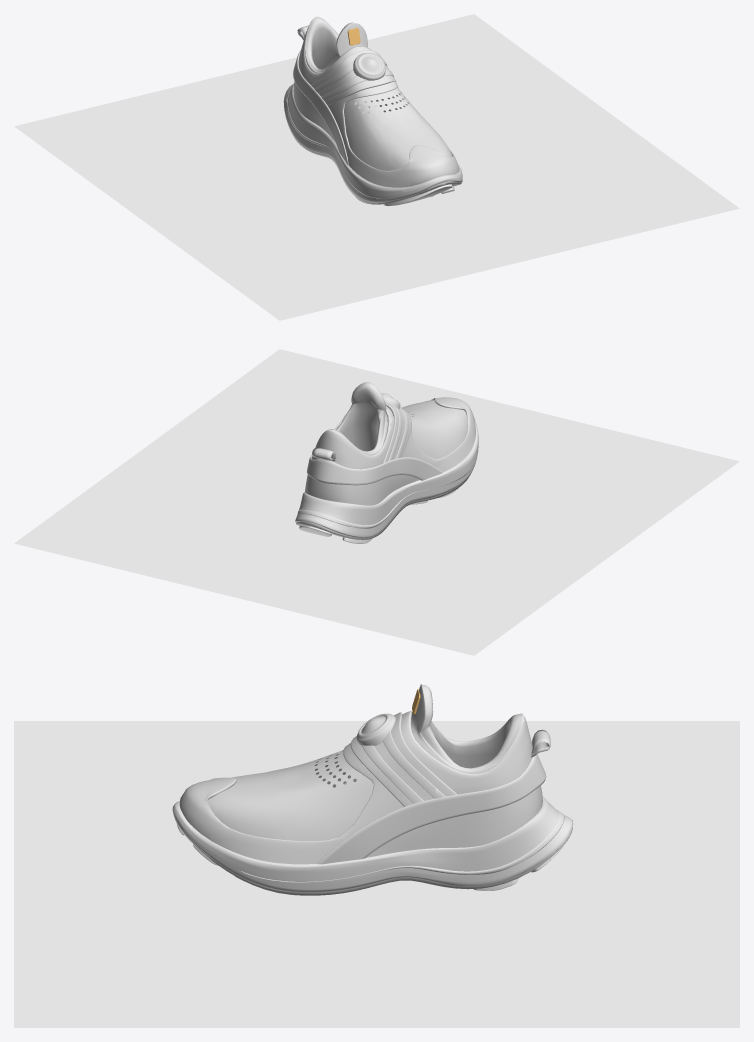
The model's file is racer.glb.
3 views of the same model, one above another, from view 1: azimuth 30°, elevation 25°; view 2: azimuth 150°, elevation 25°; view 3: azimuth 270°, elevation 25° (orthographic). The views are drawn at different scales.
Visible parts, largest first — view 1: racer_norandom00, racer_anima00, racer_cloth00, racer_bottom00, racer_cloth02, racer_cloth01, racer_anima01, racer_cloth03, racer_bottom01; view 2: racer_norandom00, racer_cloth00, racer_anima00, racer_bottom00, racer_cloth01, racer_cloth02, racer_bottom01, racer_anima02; view 3: racer_norandom00, racer_cloth00, racer_anima00, racer_bottom00, racer_cloth01, racer_cloth02, racer_cloth03, racer_bottom01, racer_anima02, racer_anima01.
Part boxes in pixels (x1=…): racer_norandom00: x1=14, y1=14, x2=739, y2=320; racer_anima00: x1=305, y1=17, x2=452, y2=170; racer_cloth00: x1=293, y1=16, x2=459, y2=187; racer_bottom00: x1=283, y1=83, x2=462, y2=203; racer_cloth02: x1=311, y1=50, x2=396, y2=105; racer_cloth01: x1=293, y1=50, x2=348, y2=165; racer_anima01: x1=353, y1=53, x2=385, y2=80; racer_cloth03: x1=314, y1=57, x2=393, y2=100; racer_bottom01: x1=285, y1=117, x2=461, y2=204; racer_norandom00: x1=14, y1=349, x2=739, y2=655; racer_cloth00: x1=305, y1=397, x2=475, y2=505; racer_anima00: x1=327, y1=382, x2=467, y2=459; racer_bottom00: x1=295, y1=417, x2=478, y2=537; racer_cloth01: x1=307, y1=455, x2=443, y2=485; racer_cloth02: x1=342, y1=402, x2=411, y2=463; racer_bottom01: x1=296, y1=474, x2=470, y2=539; racer_anima02: x1=297, y1=455, x2=477, y2=528; racer_norandom00: x1=14, y1=721, x2=739, y2=1027; racer_cloth00: x1=179, y1=711, x2=542, y2=864; racer_anima00: x1=208, y1=684, x2=522, y2=841; racer_bottom00: x1=172, y1=796, x2=573, y2=892; racer_cloth01: x1=317, y1=754, x2=546, y2=864; racer_cloth02: x1=350, y1=712, x2=457, y2=806; racer_cloth03: x1=362, y1=731, x2=445, y2=803; racer_bottom01: x1=173, y1=814, x2=572, y2=895; racer_anima02: x1=237, y1=809, x2=564, y2=882; racer_anima01: x1=356, y1=713, x2=395, y2=745.
Bounding box in the file's own units: 5 × 1.41 × 5.
15 materials, 1 textured.
